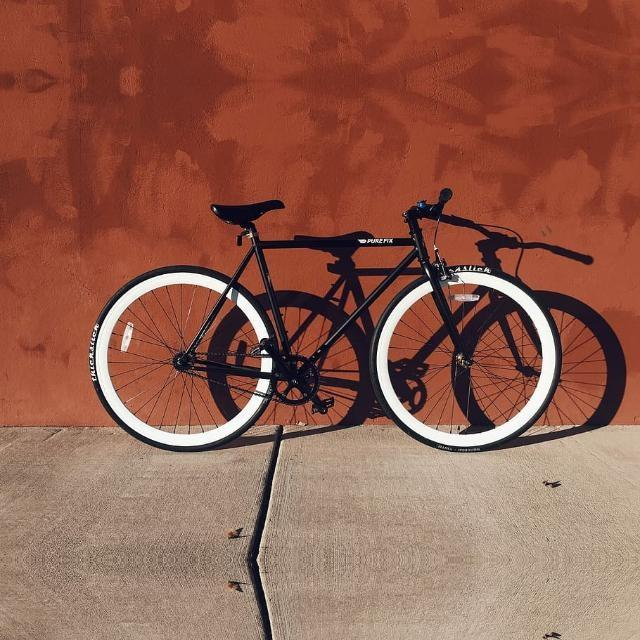obstacle: (65, 166, 579, 456)
